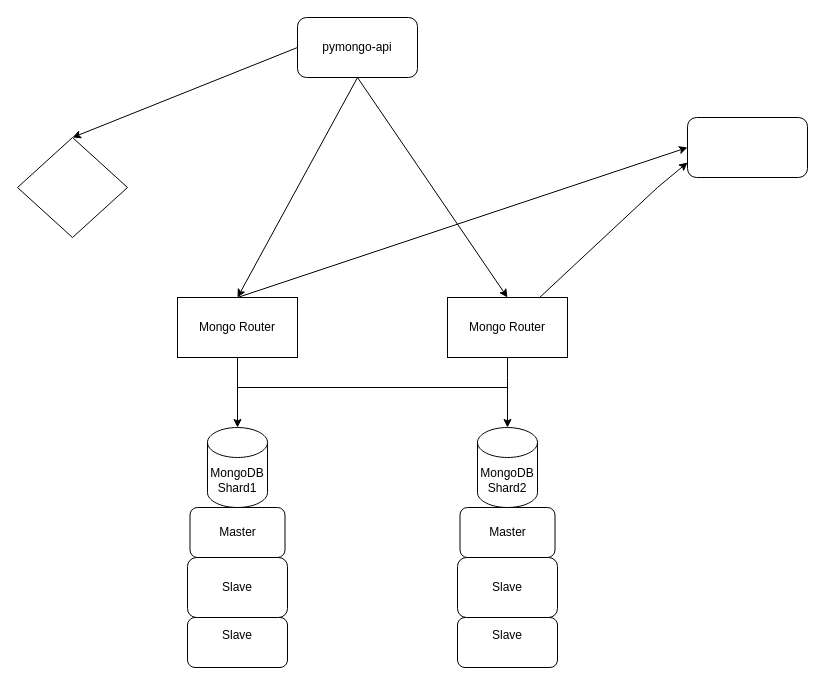
Image size: 825x685. Some labels were removed from this diagram. The centre of each missing label's shape, as x and y in pixels:
"Mongo Config Server Replica Set (3 pods)" belongs at point 747,147.
"Redis (standalone)" belongs at point 72,187.
